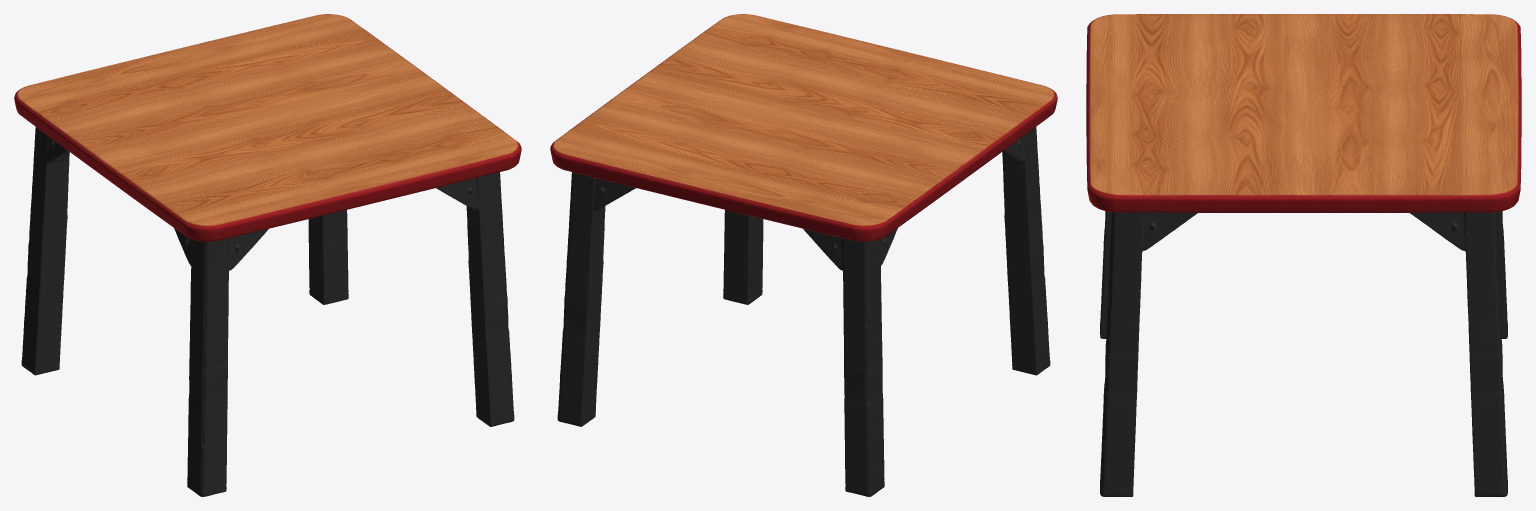
File: Meshy_AI_테이블_20261119_texture.fbx
3 views of the same model, side by side, from view 1: azimuth 30°, elevation 25°; view 2: azimuth 150°, elevation 25°; view 3: azimuth 270°, elevation 25° (orthographic). The views are drawn at different scales.
Parts seen in each view (by area): view 1: Mesh_0; view 2: Mesh_0; view 3: Mesh_0.
Boxes of the visible parts, x1,y1,x2,y2 form: Mesh_0: (14,14,521,496); Mesh_0: (550,14,1057,496); Mesh_0: (1086,14,1521,496).
Bounding box in the file's own units: 190 × 148 × 190.
Materials: 1 (1 with a texture image).
